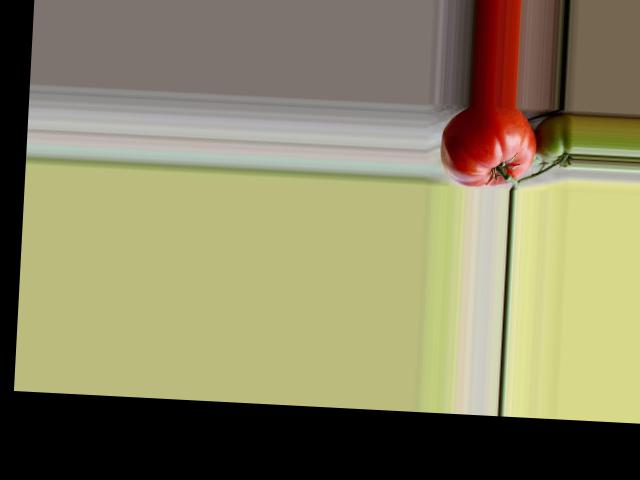tomato: (437, 102, 537, 189)
